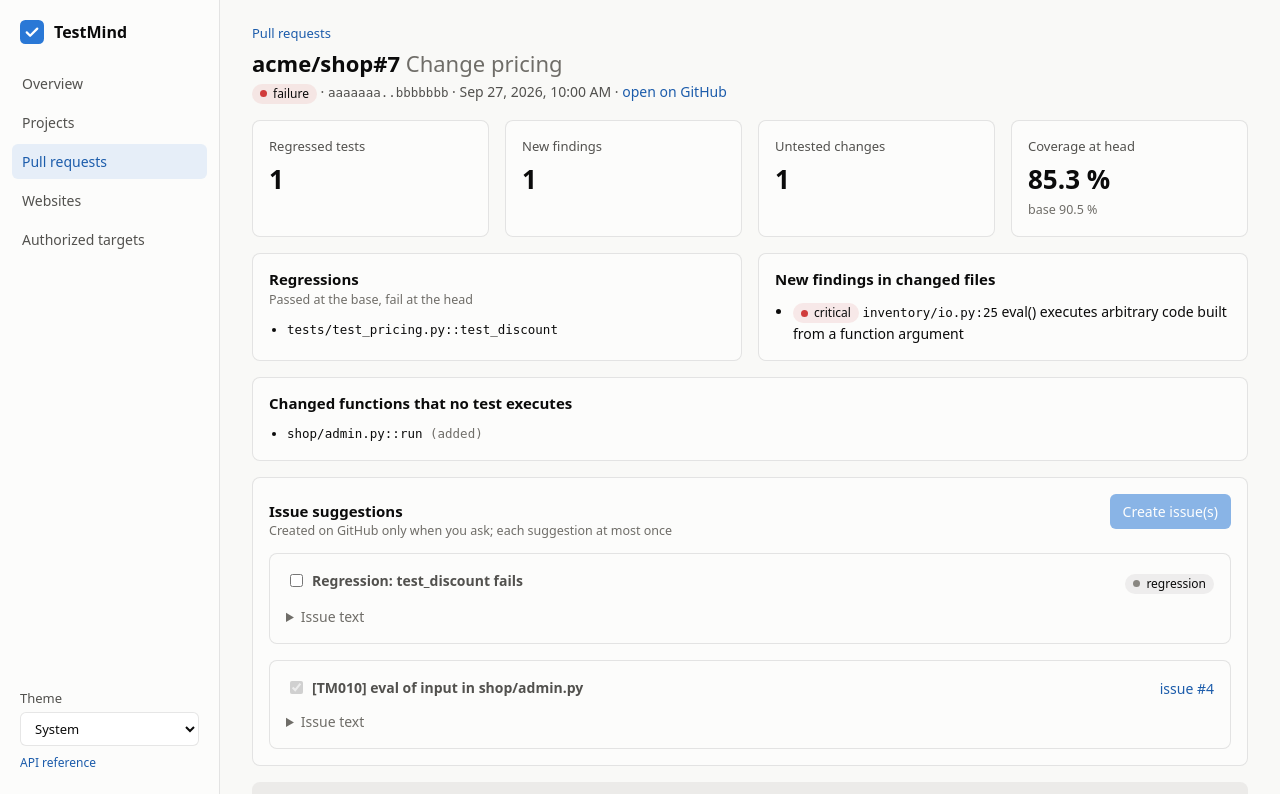
Test case: Pull request analysis › shows the report and creates the chosen issues once
Expected: the list item "tests/test_pricing.py::test_discount" is shown, [287,322,558,337]
Expected: the text "85.3 %" is shown, [1028,161,1110,197]
Click the checkbox labelled "Regression: test_discount fails". click: (296, 580)
box: [290,574,303,587]
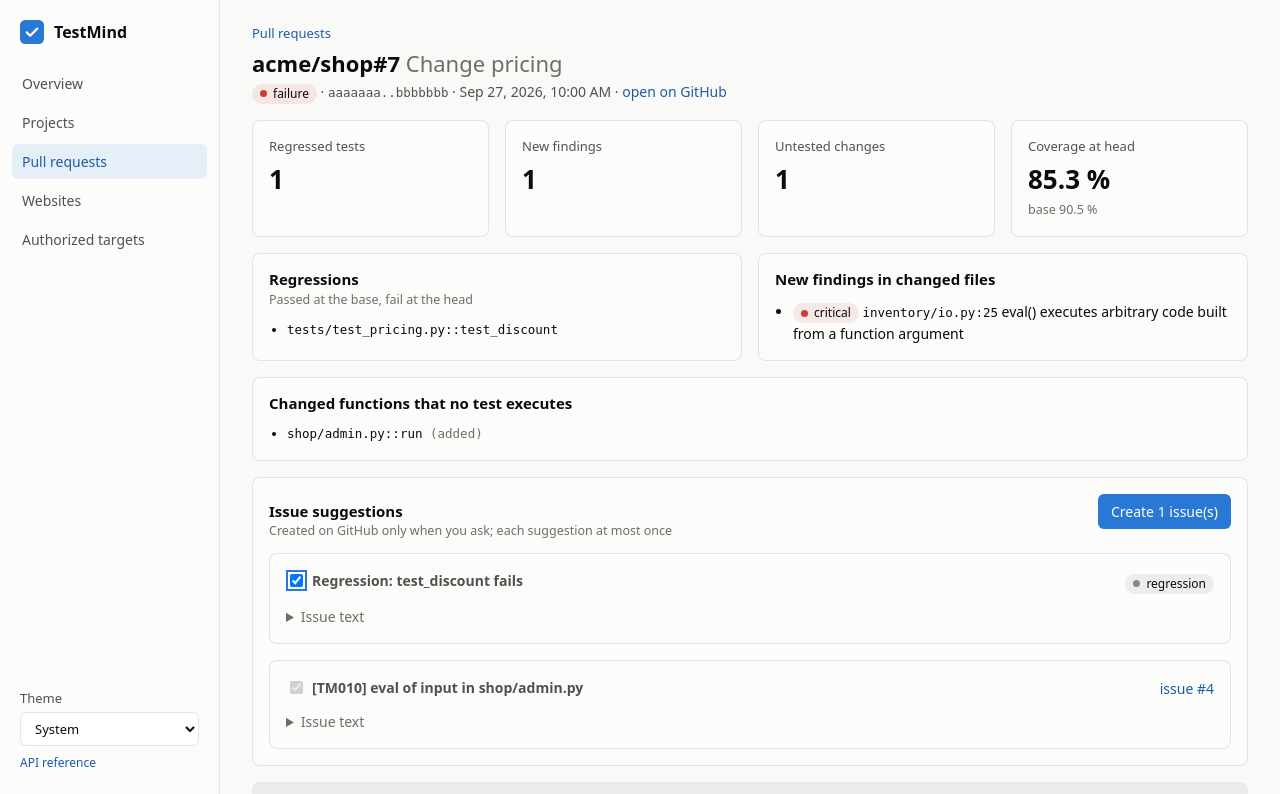
Click the checkbox labelled "Regression: test_discount fails". click: (296, 580)
box: [290,574,303,587]
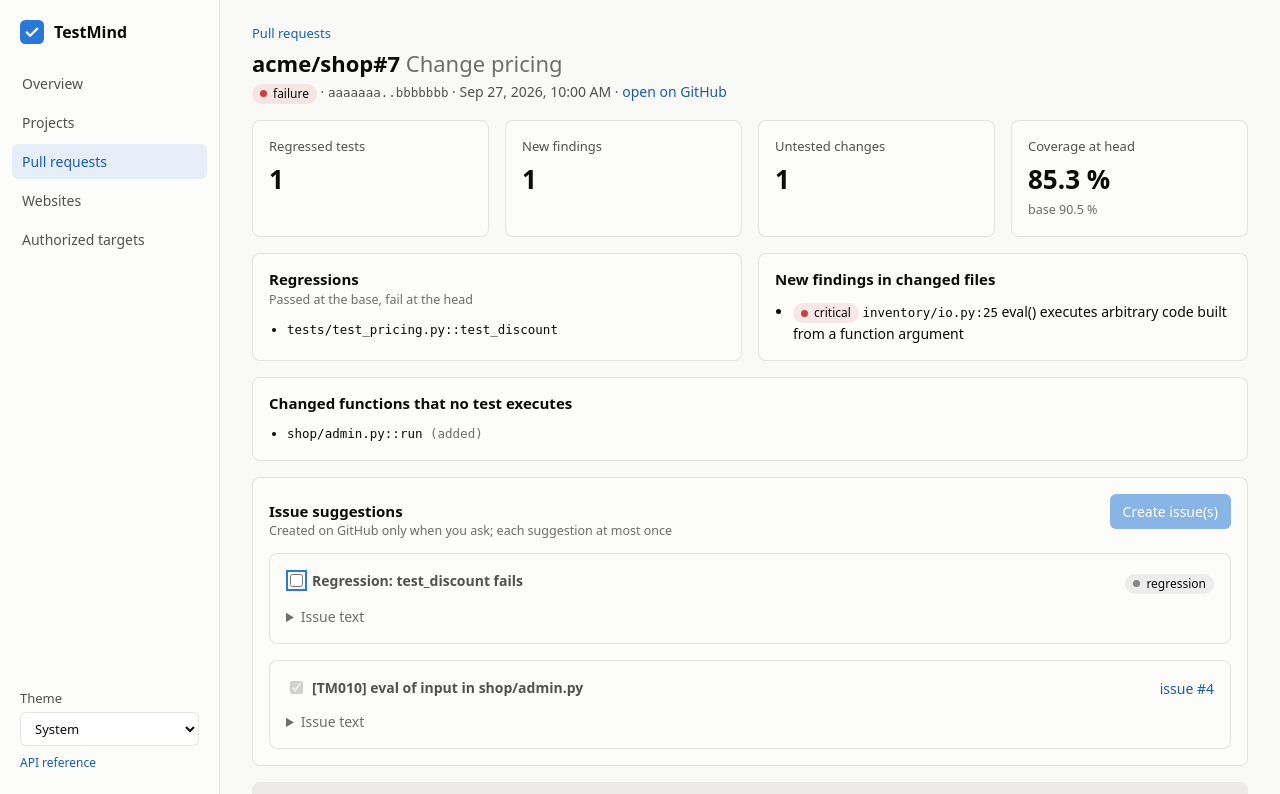
Click the checkbox labelled "Regression: test_discount fails". click: (296, 580)
box: [290,574,303,587]
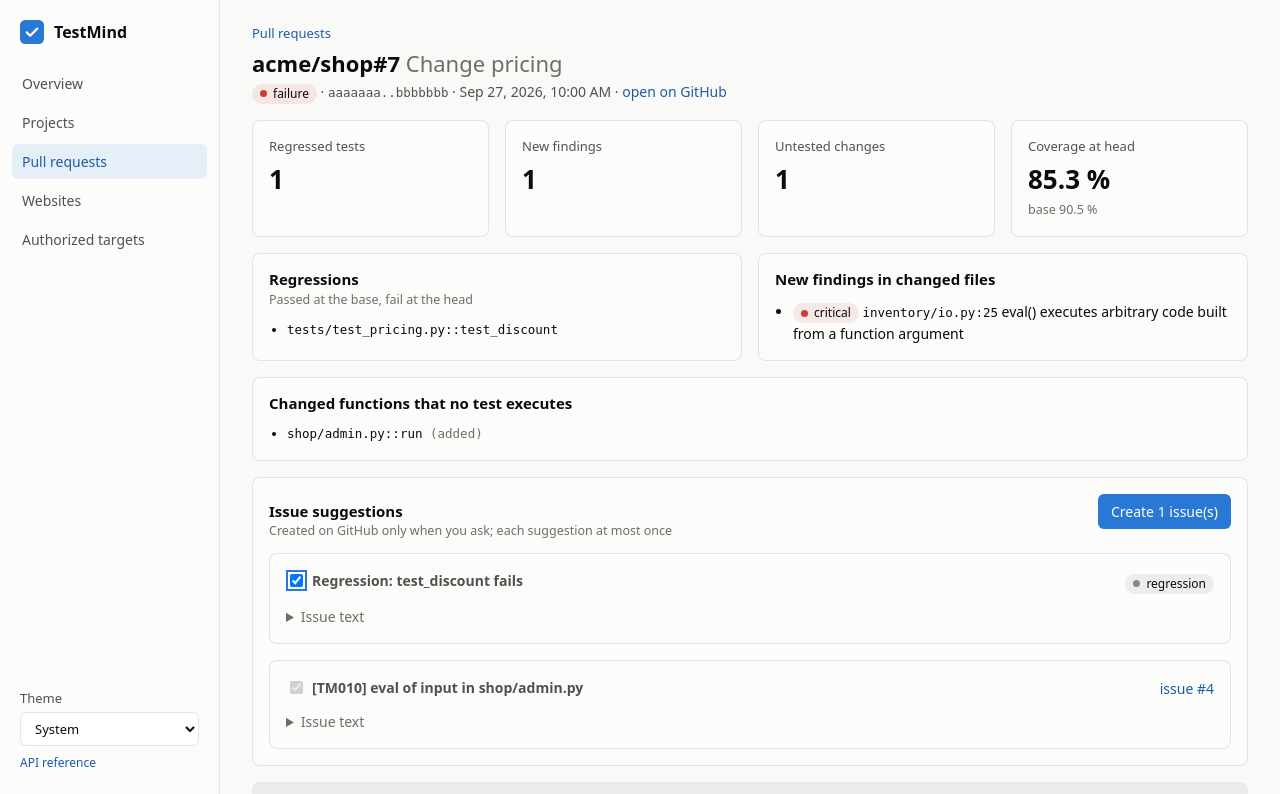
Expected: the button "Create 1 issue(s)" is shown
Click the button "Create 1 issue(s)". click: (1164, 511)
box: [1098,494,1231,528]
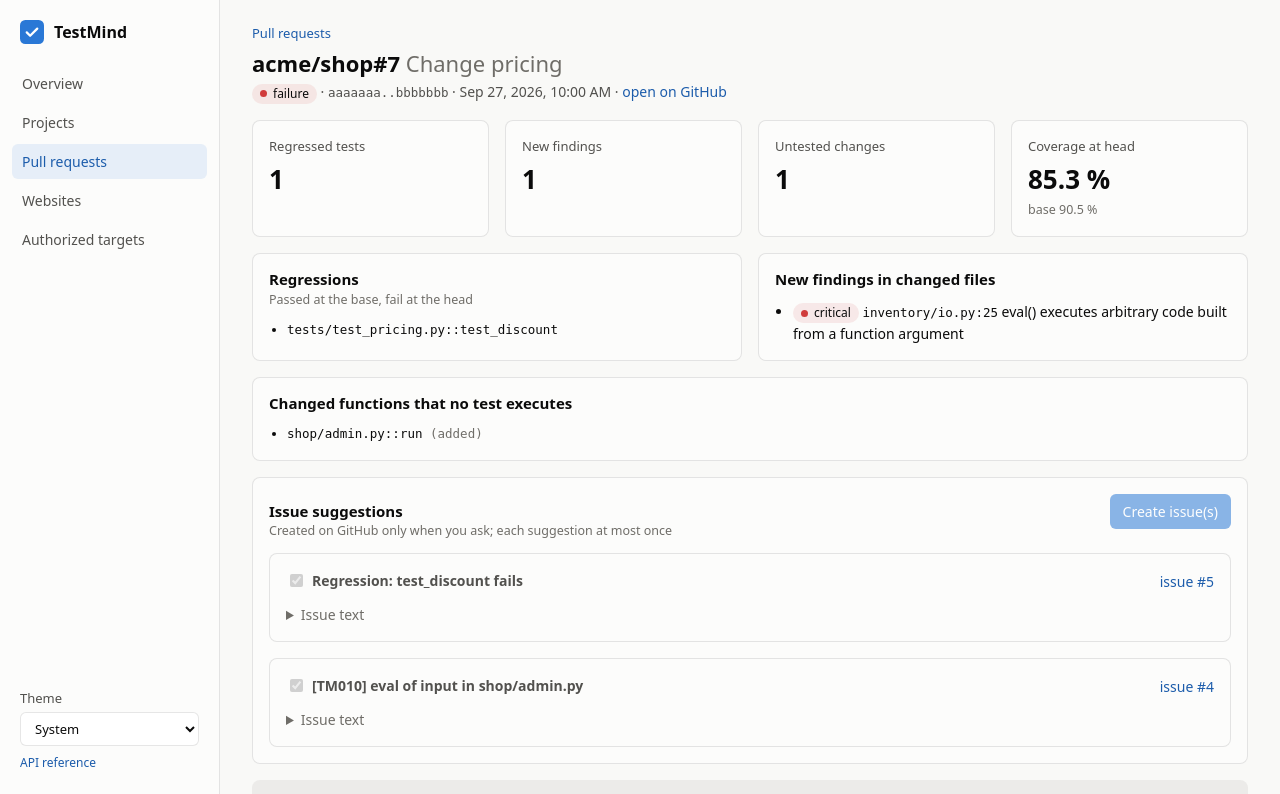
Expected: the heading "Issue text" below "Regression: test_discount fails" is shown, [301,605,364,624]
Expected: the link "issue #5" is shown, [1160,571,1214,592]
